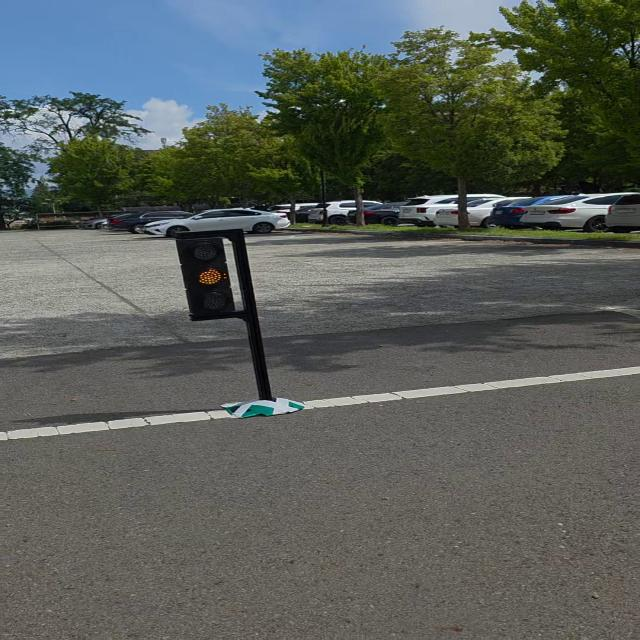yellow: (182, 240, 241, 320)
